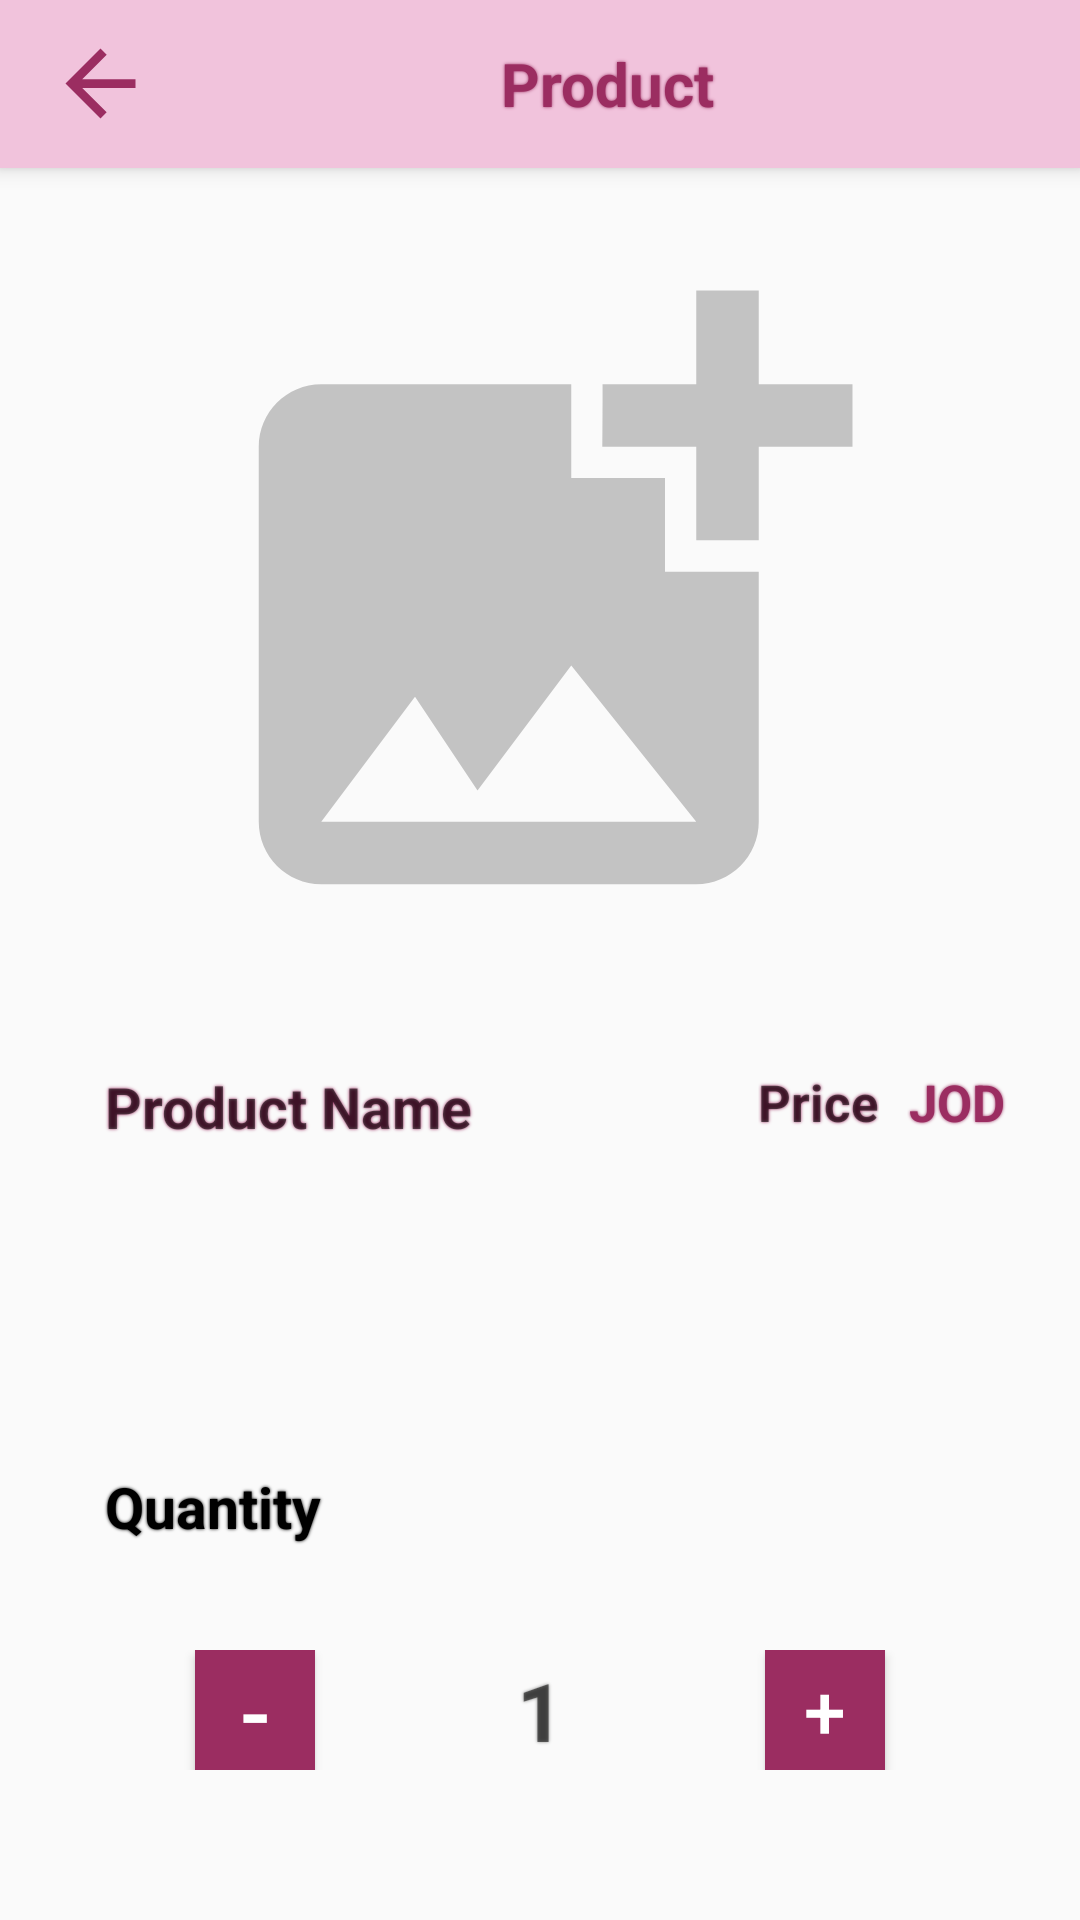

Screen size 1080 x 1920. Icon name, then its center in pixels as (x=x, y=y):
back: (x=100, y=83)
